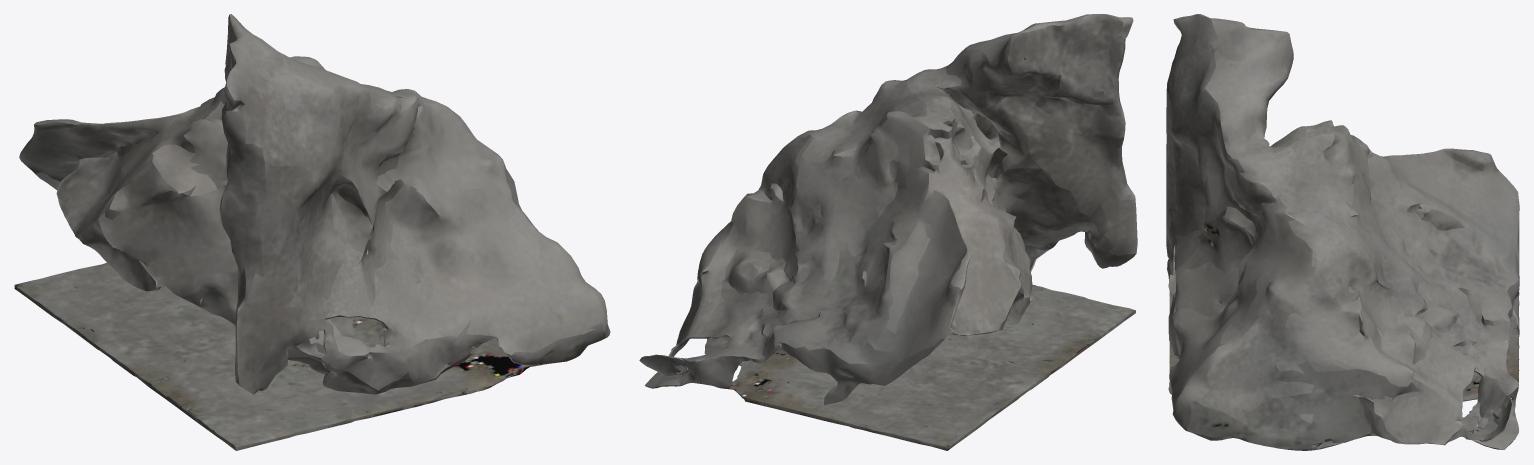
3 renders of one model, left to right at view 1: azimuth 30°, elevation 25°; view 2: azimuth 150°, elevation 25°; view 3: azimuth 270°, elevation 25°, orthographic. The views are drawn at different scales.
Visible parts, largest first — view 1: world; view 2: world; view 3: world.
Part boxes in pixels (bbox=[...]): world: bbox=[14, 14, 610, 450]; world: bbox=[639, 14, 1137, 450]; world: bbox=[1166, 14, 1519, 450].
Bounding box in the file's own units: 0.35 × 0.3323 × 0.3502.
1 material, 1 textured.
